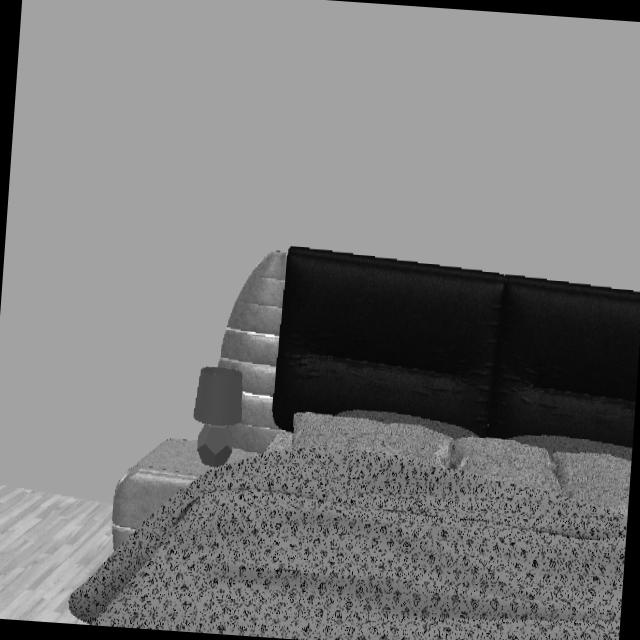bed: (66, 413, 632, 640)
lamp: (193, 367, 244, 468)
nighttable: (110, 439, 209, 549)
pillow: (293, 412, 452, 464), (517, 437, 632, 503), (450, 437, 559, 488)
